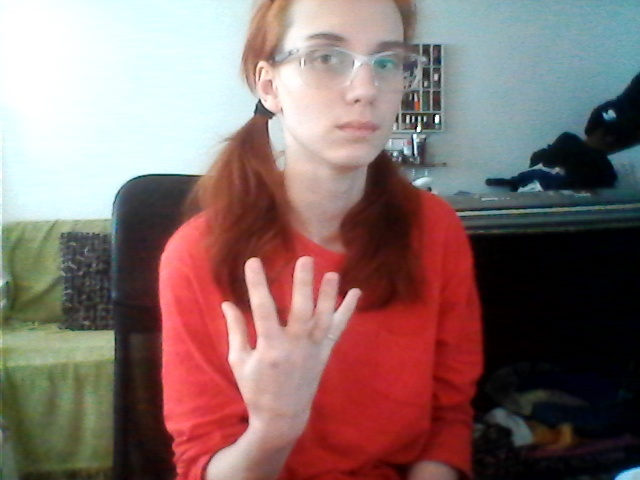kedy: (204, 248, 368, 429)
